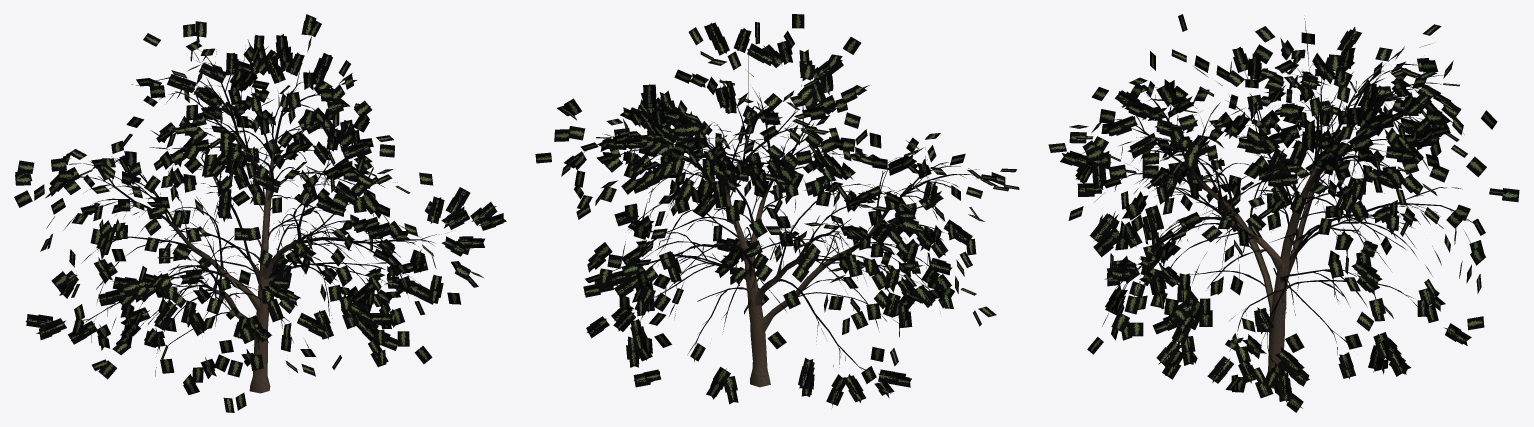
The model's file is willow.glb.
3 renders of one model, left to right at view 1: azimuth 30°, elevation 25°; view 2: azimuth 150°, elevation 25°; view 3: azimuth 270°, elevation 25°, orthographic. The views are drawn at different scales.
Parts seen in each view (by area): view 1: Mesh_1.001, Mesh_0.001; view 2: Mesh_1.001, Mesh_0.001; view 3: Mesh_1.001, Mesh_0.001.
Part boxes in pixels (x1,y1,x2,y2): Mesh_1.001: (14, 14, 506, 412); Mesh_0.001: (63, 49, 448, 393); Mesh_1.001: (535, 14, 1019, 405); Mesh_0.001: (602, 49, 987, 407); Mesh_1.001: (1048, 14, 1519, 412); Mesh_0.001: (1104, 18, 1472, 388).
Bounding box in the file's own units: 15.87 × 13.57 × 15.73.
Materials: 2 (2 with a texture image).
